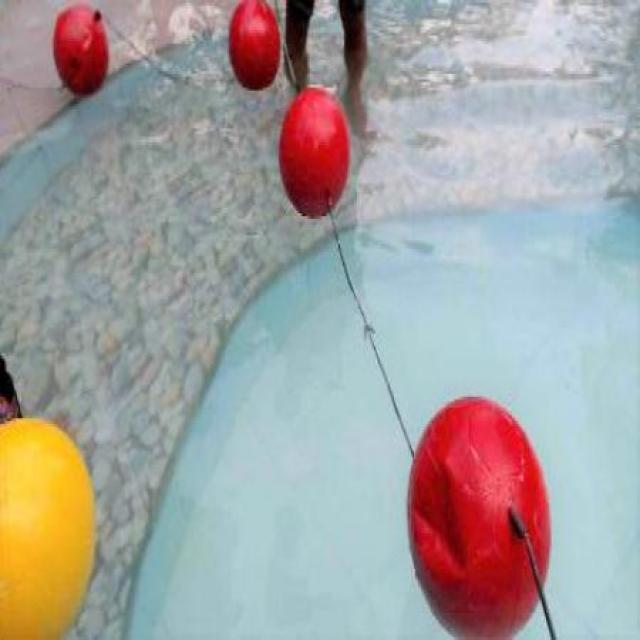buoy: (405, 392, 552, 636), (0, 414, 95, 636), (277, 87, 350, 219), (51, 1, 108, 97), (226, 0, 282, 90)
